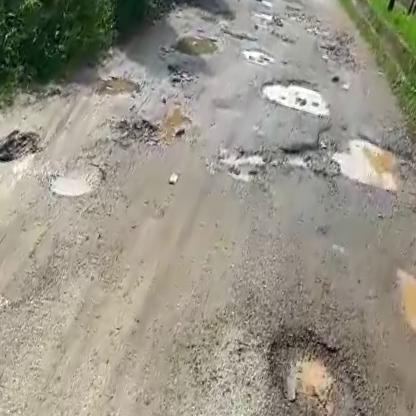pothole: (250, 321, 362, 416), (210, 126, 298, 194), (324, 129, 410, 196), (256, 67, 339, 119), (43, 154, 106, 206), (239, 41, 277, 65)
